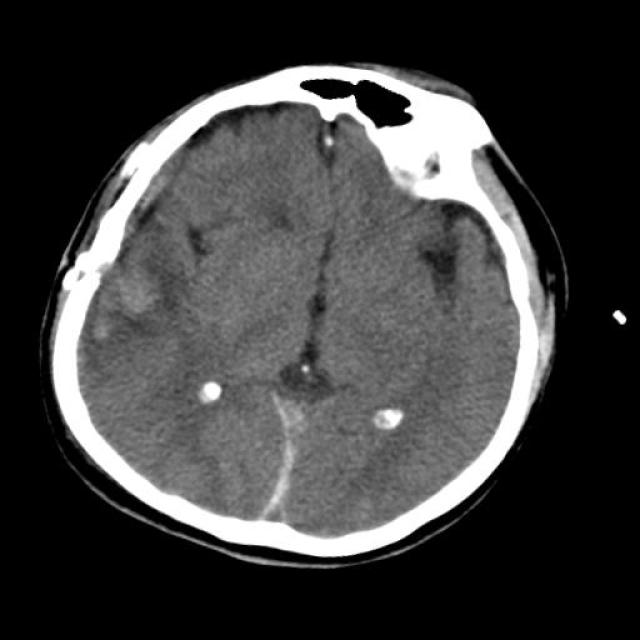Subdural: (233, 389, 351, 557)
